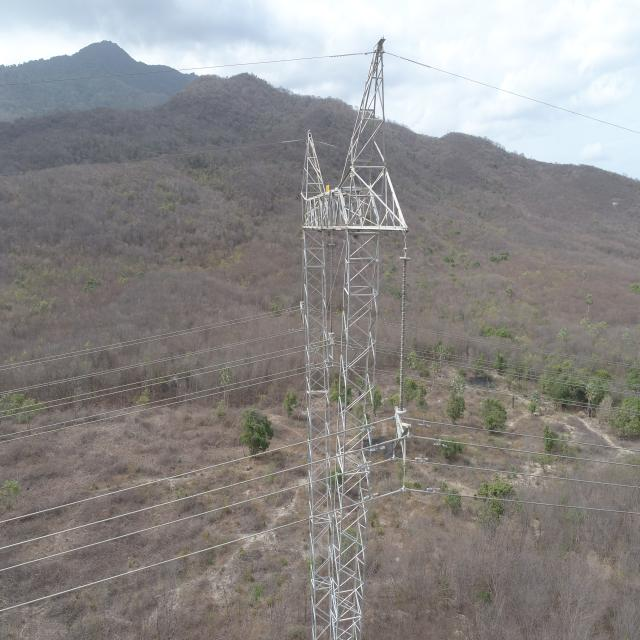杆塔: (285, 30, 422, 640)
正常绝缘子: (395, 253, 411, 418), (328, 242, 336, 336), (300, 239, 305, 307)
